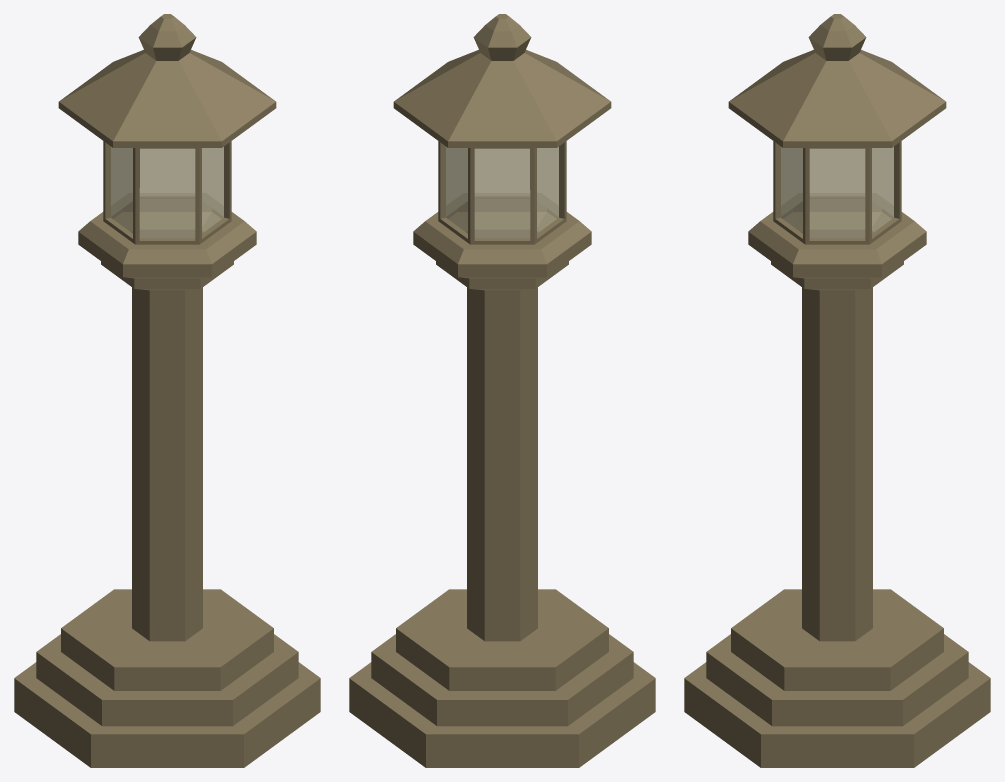
File: LampPost_v003(UV_Unwrapped).fbx
3 renders of one model, left to right at view 1: azimuth 30°, elevation 25°; view 2: azimuth 150°, elevation 25°; view 3: azimuth 270°, elevation 25°, orthographic.
Parts seen in each view (by area): view 1: LampPost; view 2: LampPost; view 3: LampPost.
Boxes of the visible parts, left/top/right/bottom form: LampPost: left=14, top=14, right=320, bottom=767; LampPost: left=349, top=14, right=655, bottom=767; LampPost: left=684, top=14, right=990, bottom=767.
Bounding box in the file's own units: 229 × 660 × 264.
